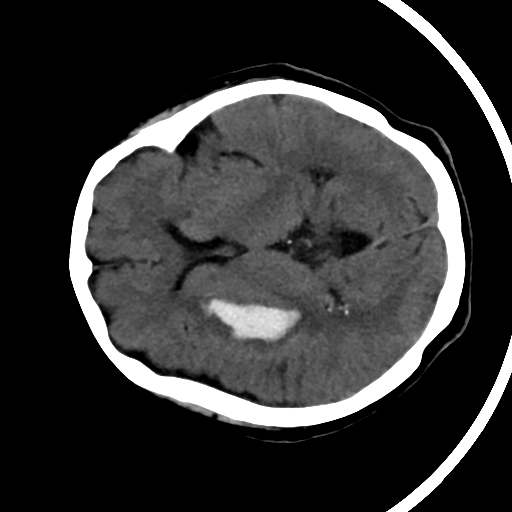a: (168, 276, 332, 360)
